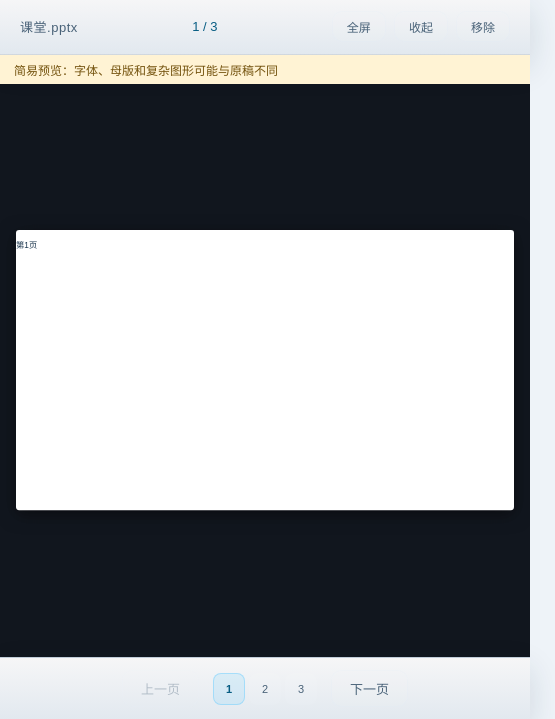
Test case: PptViewer keyboard ownership › returns keyboard focus to the drawing surface after a toolbar interaction
The image size is (555, 719).
Press the mouse on the text "第1页" at (27, 246), box left=16, top=241, right=37, bottom=250
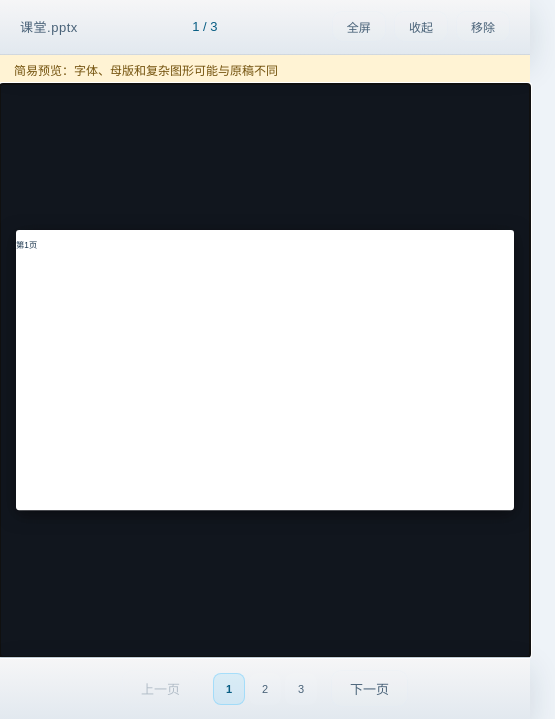
Press ArrowRight in the element showing "第1页", box left=16, top=230, right=514, bottom=510
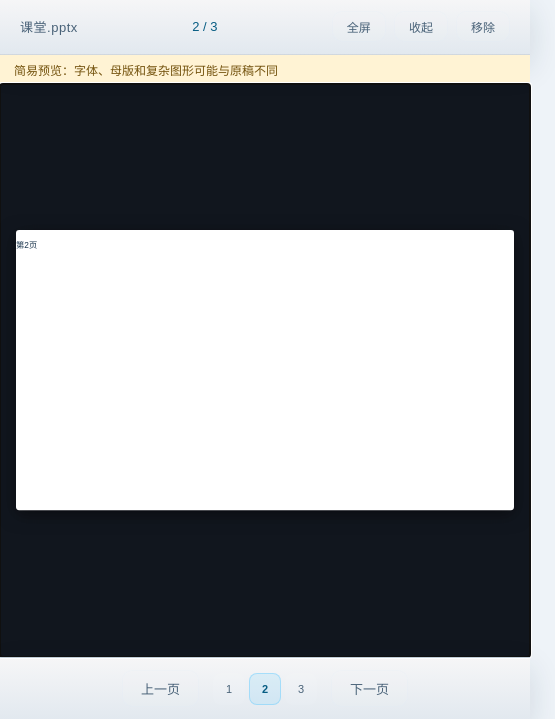
expect the text "第2页" is shown: met, box left=16, top=241, right=37, bottom=250
